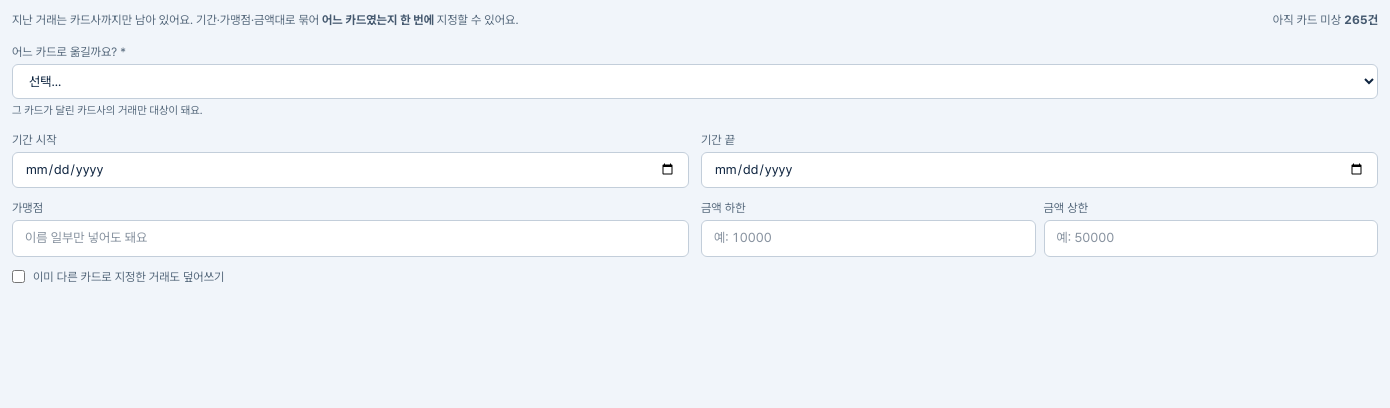
C. 프리뷰 — 실행 전에 건수가 보인다 › C-1. 카드를 고르면 몇 건이 바뀌는지 보여준다
Select "하나 A · 하나카드" in the dropdown labelled "어느 카드로 옮길까요? *": (695, 82) 12,64 -> 1378,99
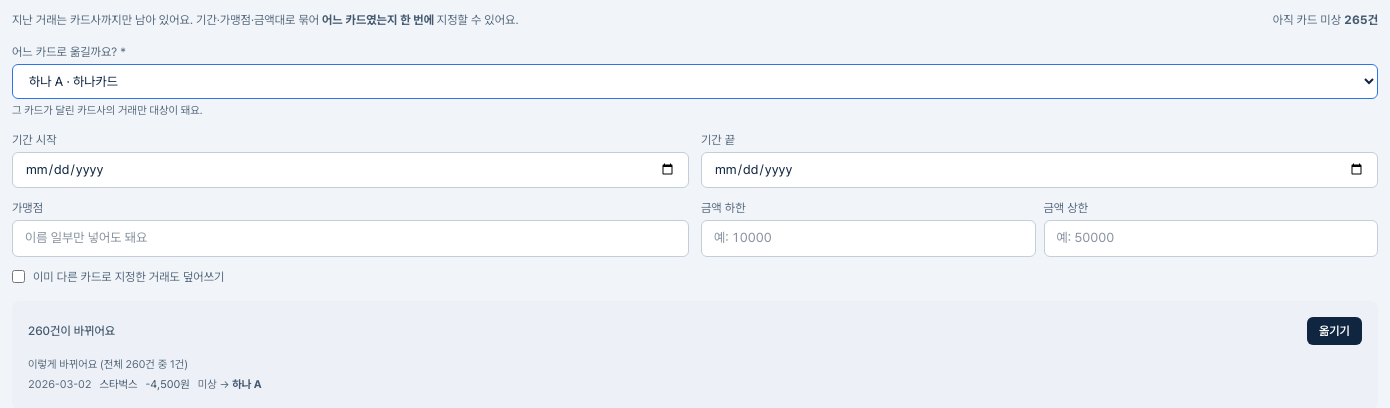
Expected: the heading "260건이 바뀌어요" is shown, 28,323 -> 115,339
